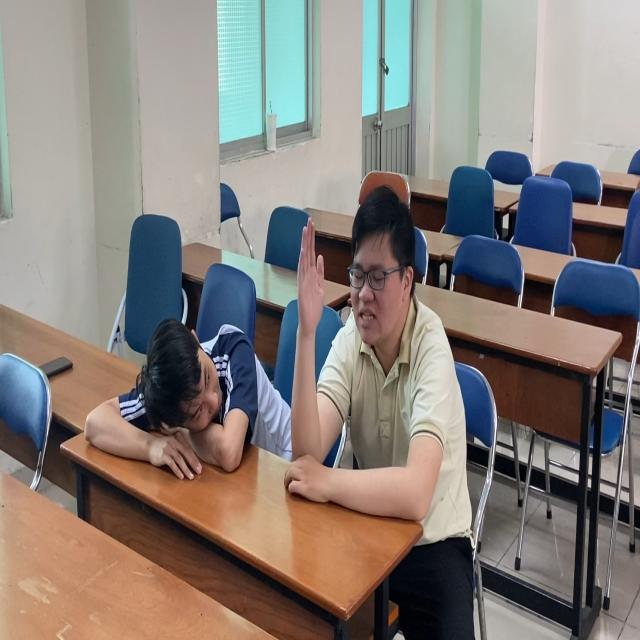raise_hand: (287, 180, 455, 529)
